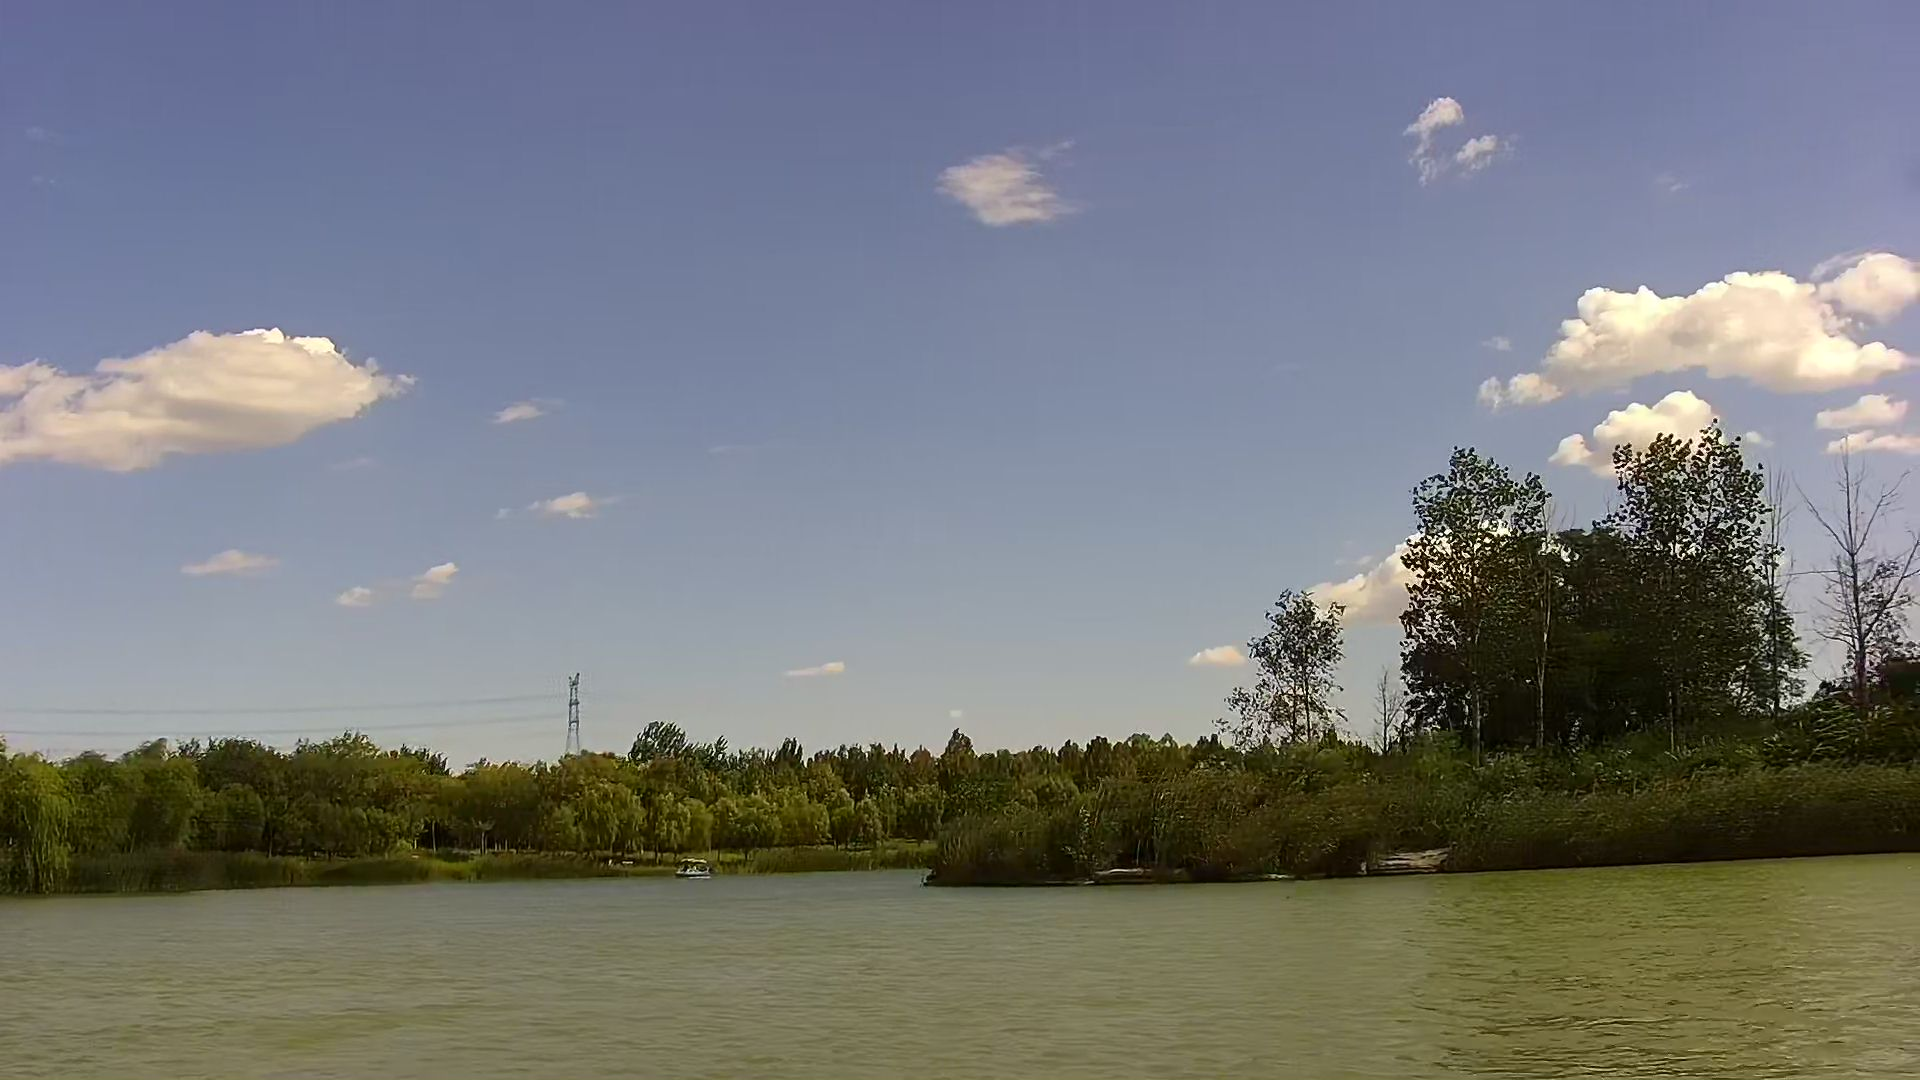boat: (673, 856, 705, 877)
rock: (1365, 847, 1455, 877), (1091, 860, 1170, 887)
